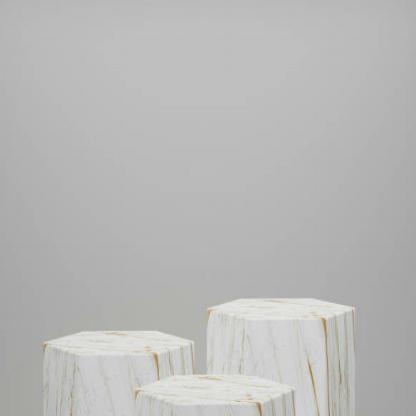Metamorphic_Marble: (205, 282, 361, 415), (38, 321, 198, 415), (139, 363, 296, 415)
